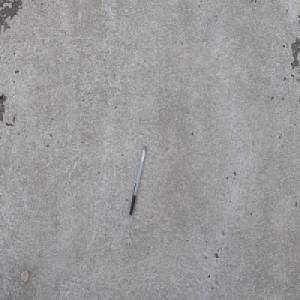Pen: (129, 144, 147, 215)
